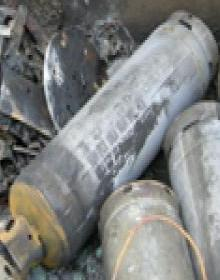cylinder: (1, 1, 220, 280)
